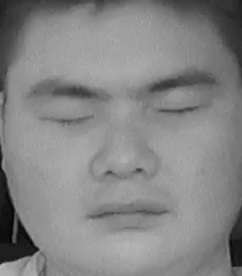blink: (41, 99, 97, 139), (156, 92, 203, 127)
mouth: (78, 189, 169, 235)
